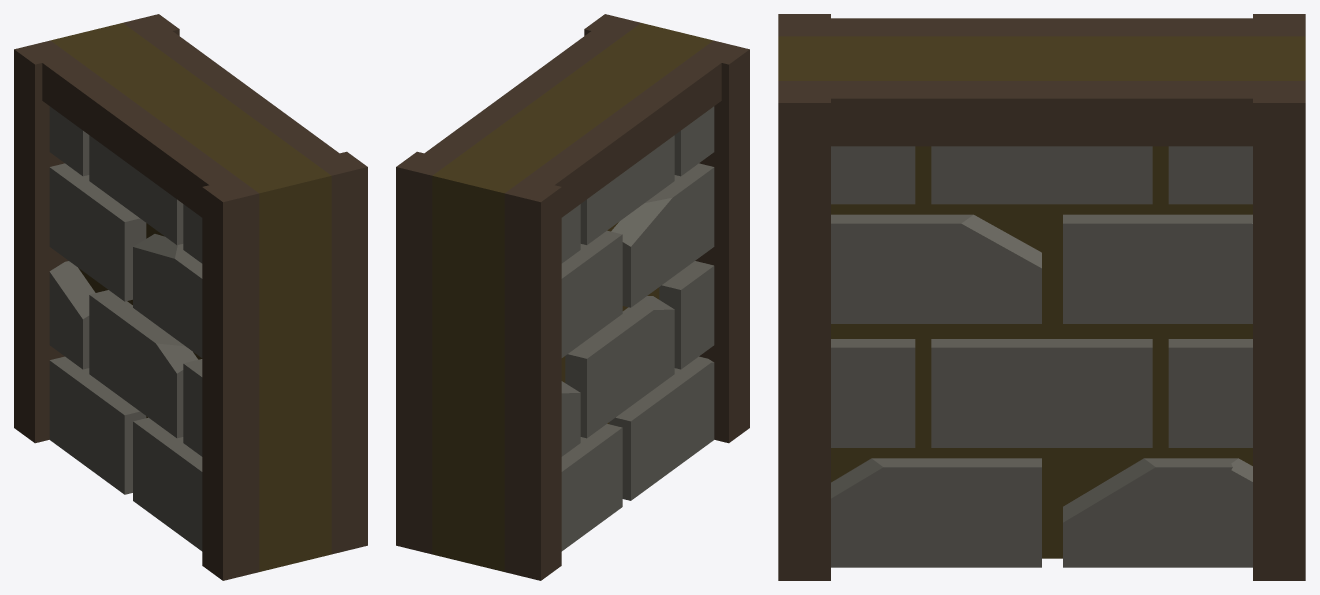
File: A_BrickWall13.fbx
3 renders of one model, left to right at view 1: azimuth 30°, elevation 25°; view 2: azimuth 150°, elevation 25°; view 3: azimuth 270°, elevation 25°, orthographic. The views are drawn at different scales.
Visible parts, largest first — view 1: A_BrickWall13; view 2: A_BrickWall13; view 3: A_BrickWall13.
Part boxes in pixels (box(x1,y1,x2,y2)): A_BrickWall13: box(14, 14, 367, 580); A_BrickWall13: box(396, 14, 749, 580); A_BrickWall13: box(778, 14, 1305, 580).
Bounding box in the file's own units: 40 × 100 × 100.
